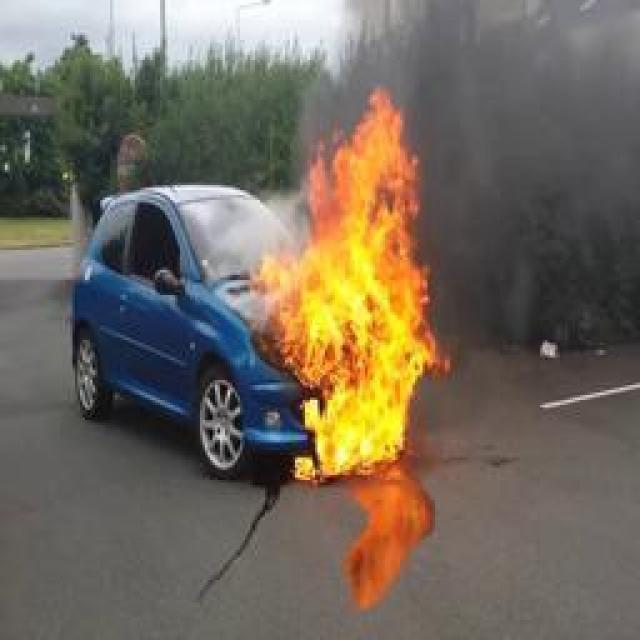Fire: (254, 86, 456, 479)
